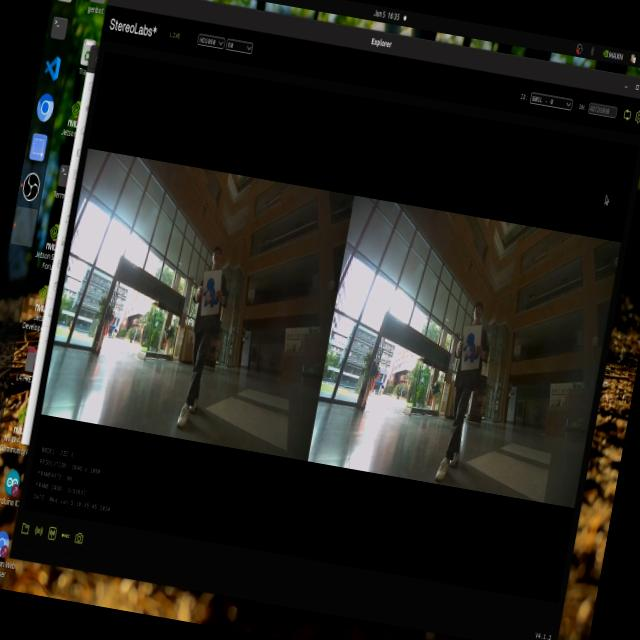blue: (456, 322, 488, 376), (198, 274, 223, 320)
